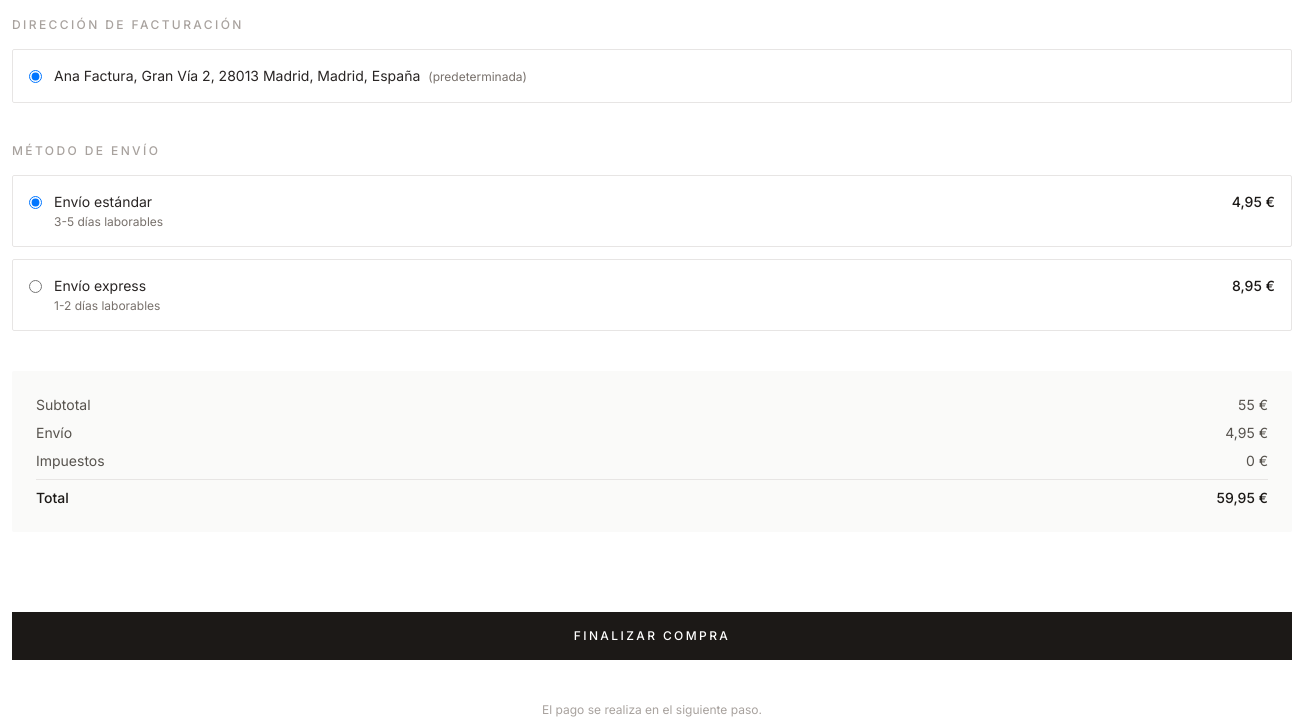
Test case: CheckoutClient › shows an accessible error and does not redirect when the order fails
(page scrolled)
What coordinates should you click on to do the following:
click the button "Finalizar compra"
I would click on:
 (652, 636)
Its box is [12, 612, 1292, 660].
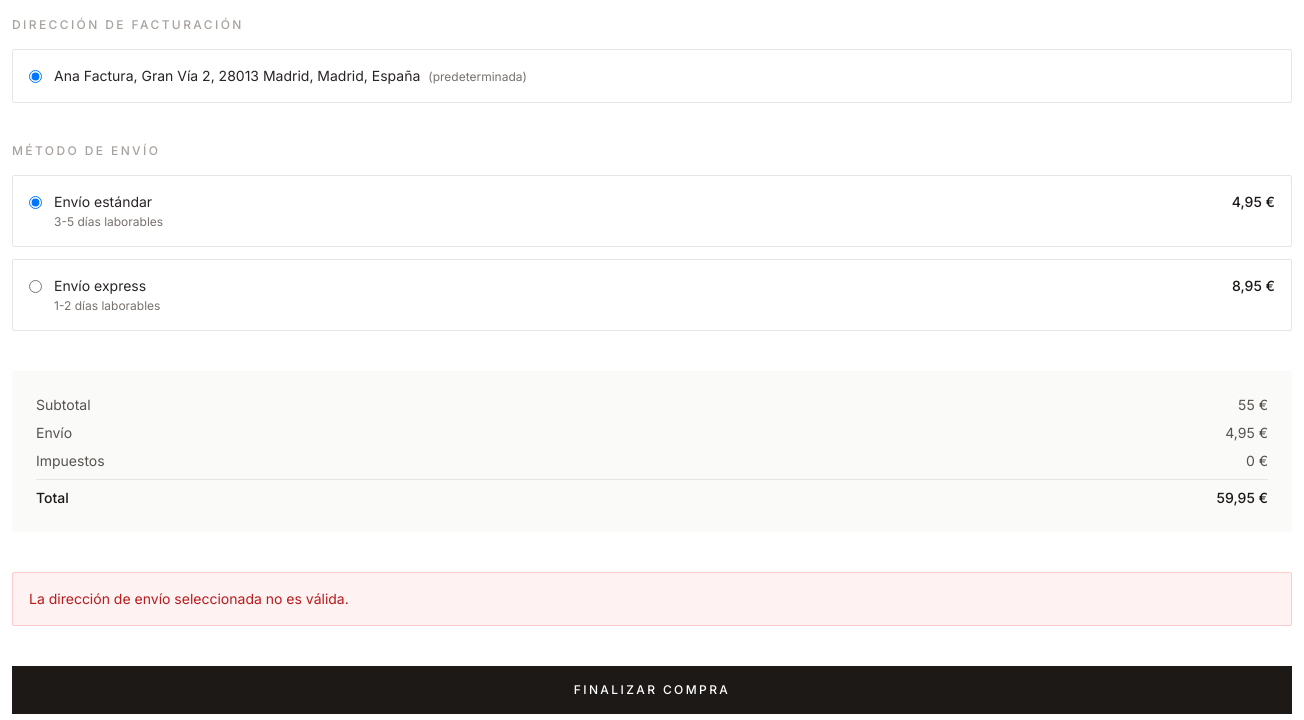
Check: the text "La dirección de envío seleccionada no es válida." is shown, box [29, 590, 349, 607]
